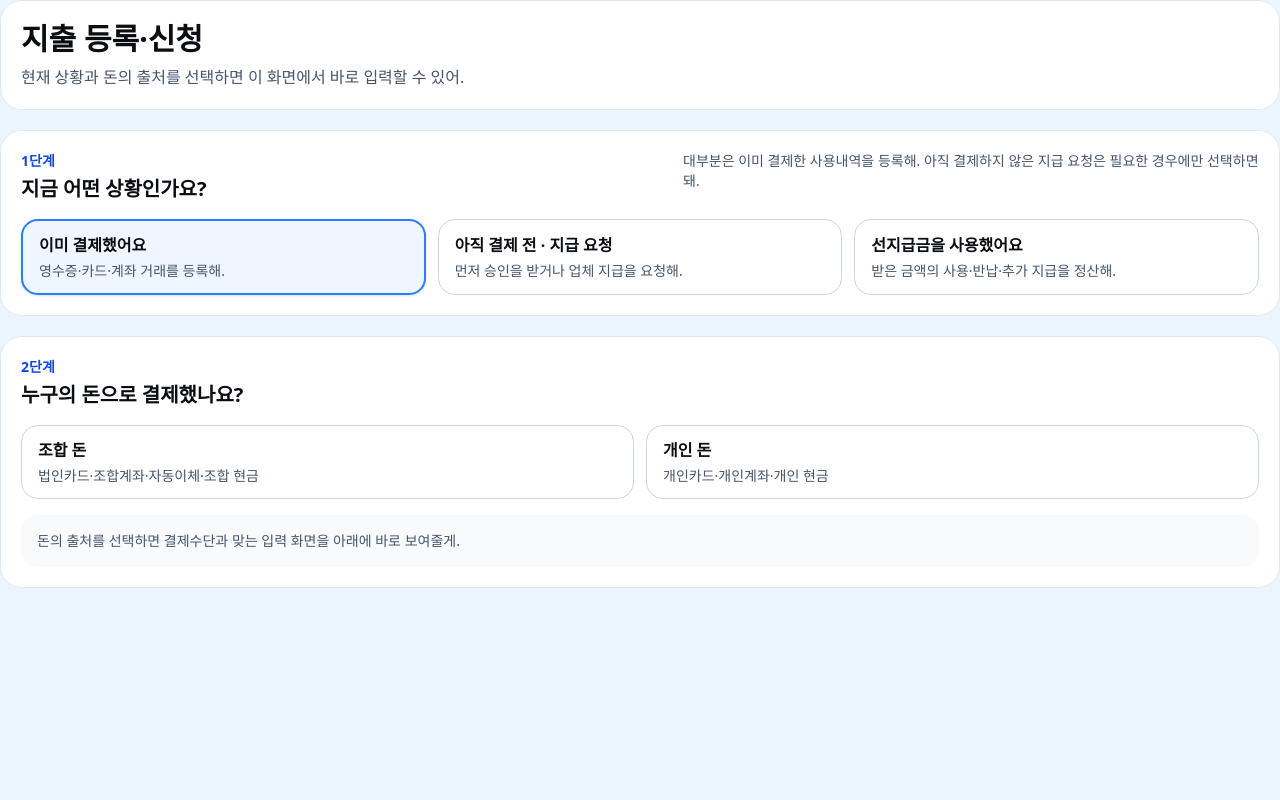
expense entry workspace › starts with payment timing and opens organization payment methods
The image size is (1280, 800).
Expected: the heading "누구의 돈으로 결제했나요?" is shown, [21, 381, 243, 408]
Click the button "조합 돈 법인카드·조합계좌·자동이체·조합 현금" at (62, 450), box [21, 425, 634, 499]
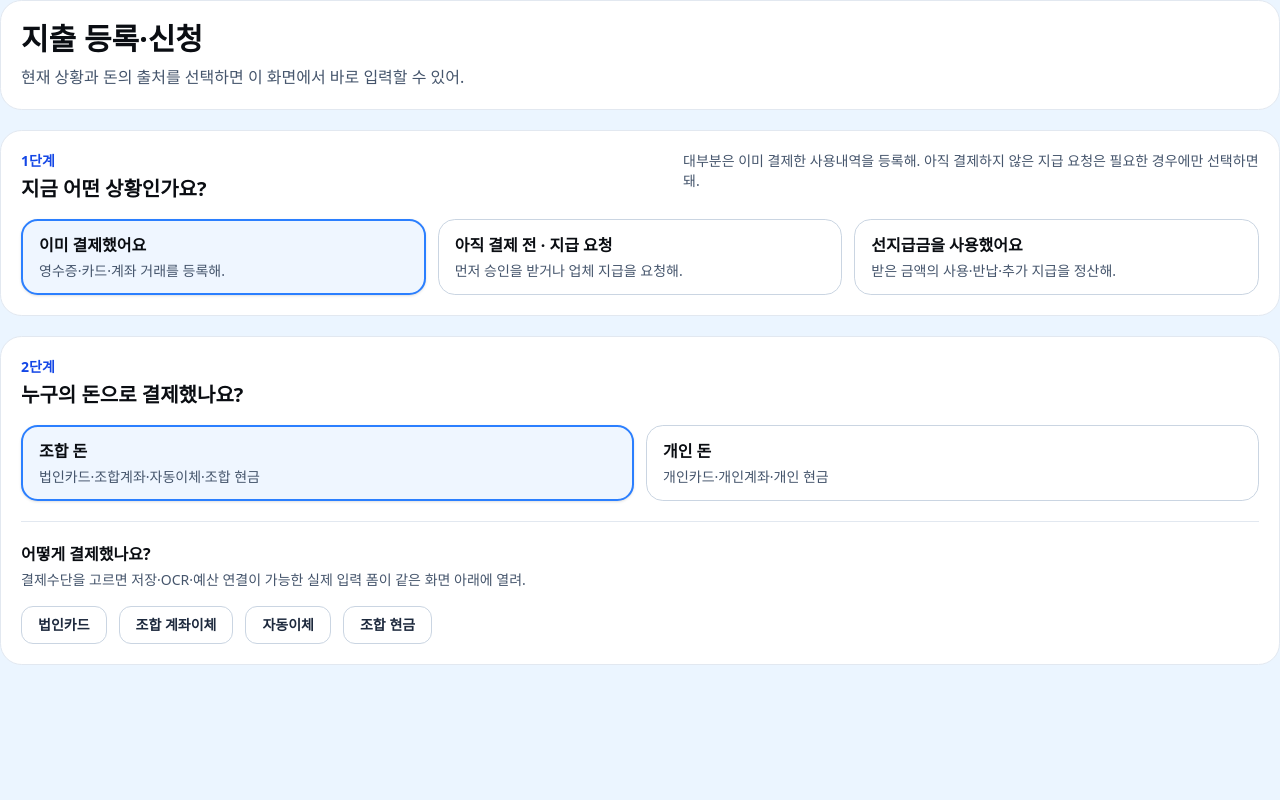
Expected: the button "법인카드" is shown, [21, 606, 106, 644]
Expected: the button "조합 계좌이체" is shown, [118, 606, 233, 644]
Expected: the button "자동이체" is shown, [246, 606, 331, 644]
